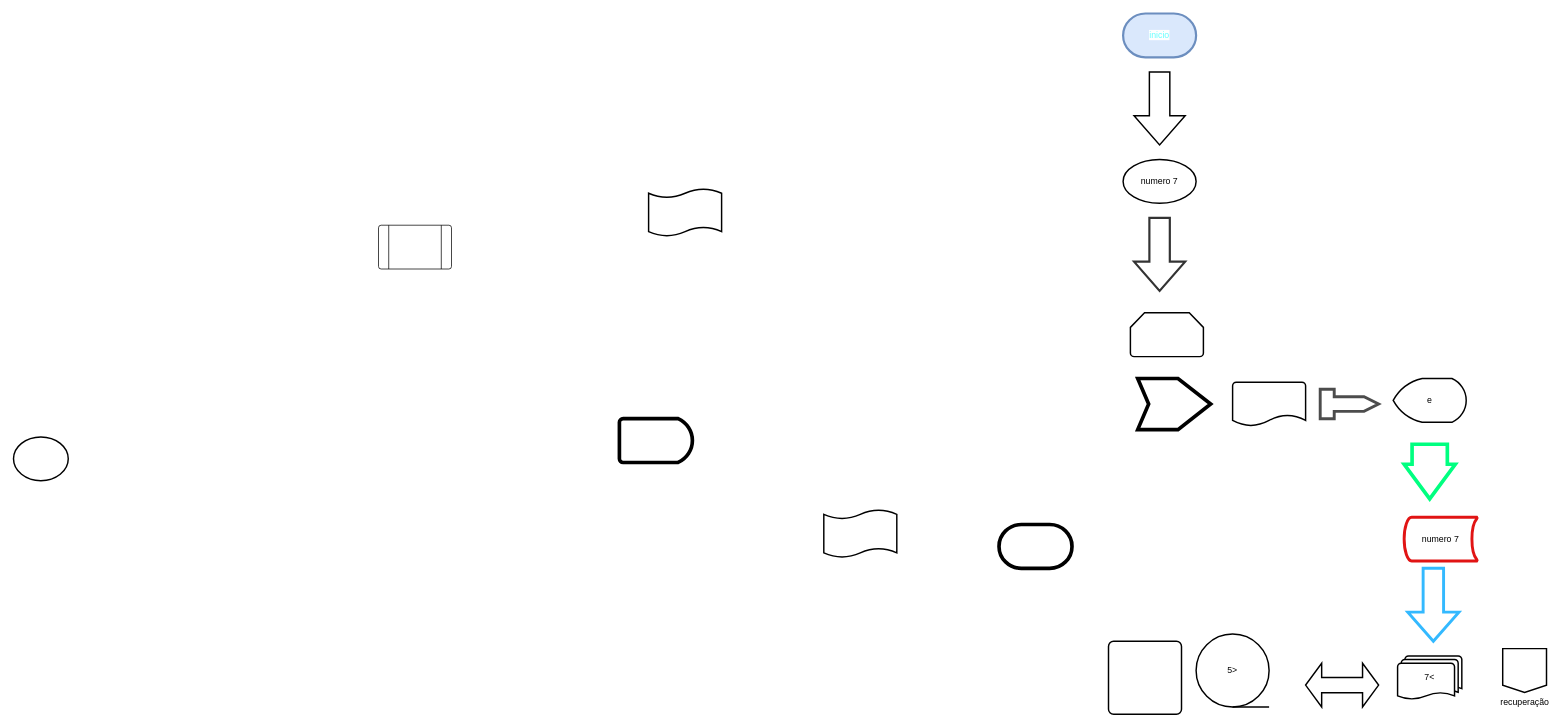
Some shapes in this 1561 by 728 pixel diagram are drawn without their labels. Here are the shapes that lost their labels. From the top down, the centre of each, then its label:
At (x=1166, y=334): "passar".
At (x=1269, y=403): "numero 5".
At (x=1144, y=677): "reprovado.".
